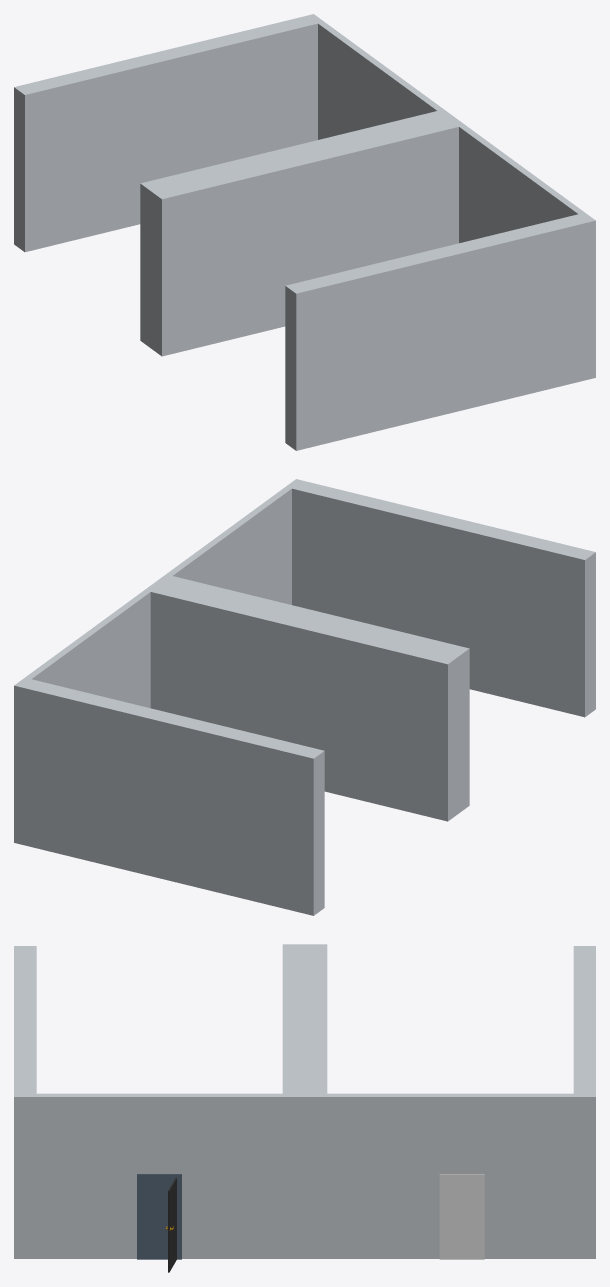
File: Hospital_Oficina.fbx
The picture shows the model from 3 angles, top to bottom: view 1: azimuth 30°, elevation 25°; view 2: azimuth 150°, elevation 25°; view 3: azimuth 270°, elevation 25°; orthographic projection. The views are drawn at different scales.
Parts seen in each view (by area): view 1: Cube; view 2: Cube; view 3: Cube, CTRL_Hole.001, CTRL_Hole, Door.
Part boxes in pixels (x1,y1,x2,y2): Cube: [14, 14, 595, 450]; Cube: [14, 479, 595, 915]; Cube: [14, 944, 595, 1258]; CTRL_Hole.001: [439, 1174, 484, 1259]; CTRL_Hole: [137, 1174, 181, 1259]; Door: [168, 1177, 176, 1272].
Bounding box in the file's own units: 881 × 410 × 1300.
